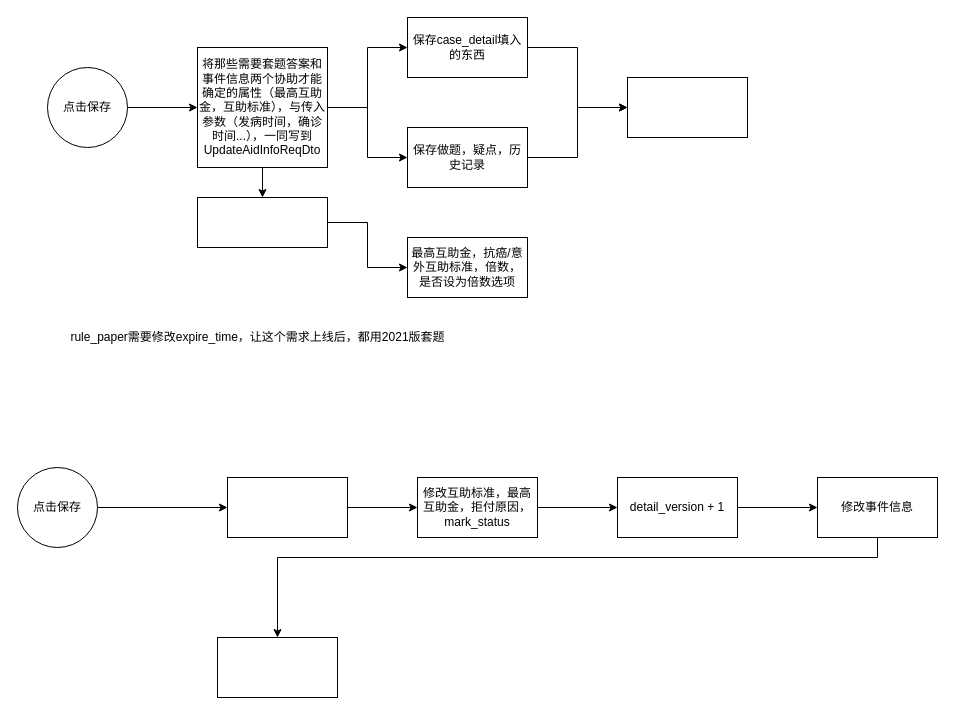
The diagram is 955 pixels wide and 715 high, and some of its shapes have lost their labels. Here are the shapes that lost their labels. From the top down, the centre of each, then its label:
At point (687, 107): "将UpdateAidInfoReqDto保存".
At point (262, 222): "画外音：哪些字段需要两者结合才能确认".
At point (287, 507): "保存题库，疑点".
At point (277, 667): "重新计算最高互助金，修改少儿呼吸道三字段，".
